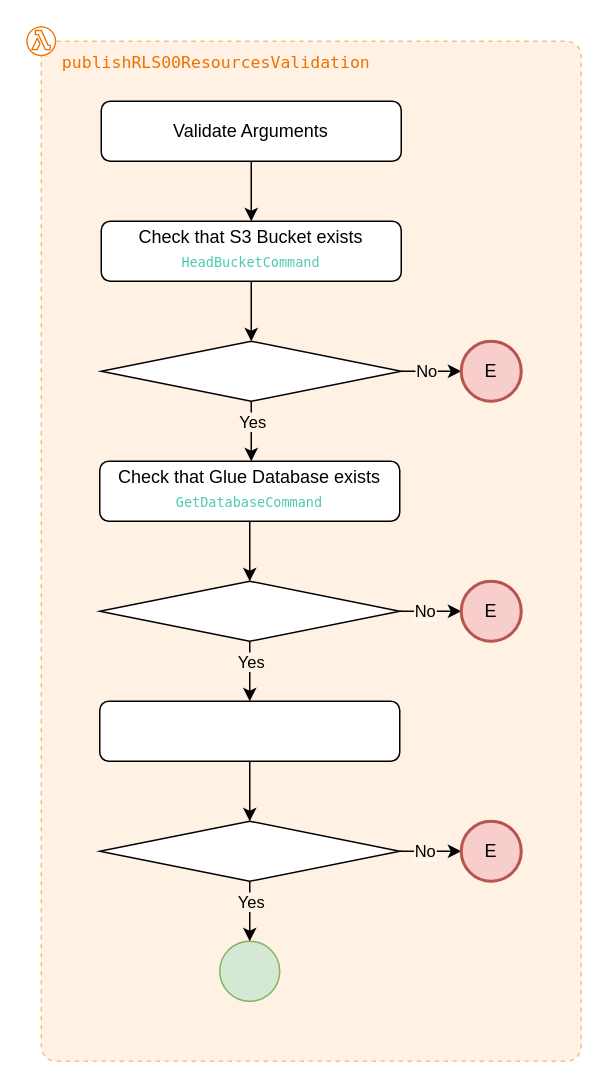
Some shapes in this 608 by 1088 pixel diagram are drawn without their labels. Each missing label, with the centre of its shape:
Check that QS DataSource exists DescribeDataSourceCommand: pixel 249 730
Glue DB exists?: pixel 249 610
QS DataSource Exists: pixel 249 850
S3 Bucket Exists?: pixel 250 370
